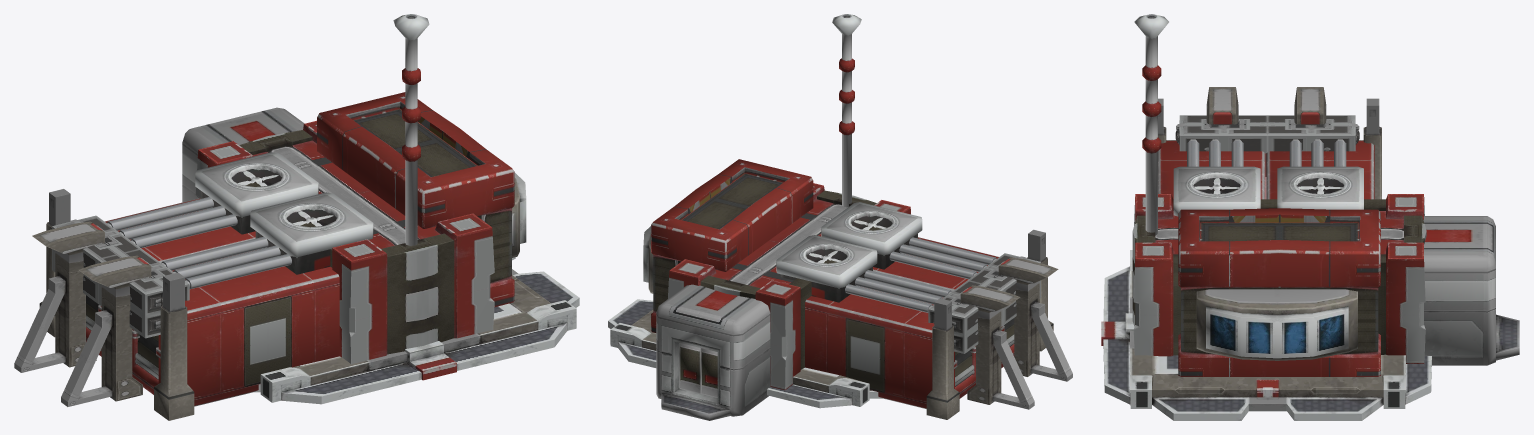
Rendered from Building - 07-BlZRWrQU.glb.
The picture shows the model from 3 angles, left to right: view 1: azimuth 30°, elevation 25°; view 2: azimuth 150°, elevation 25°; view 3: azimuth 270°, elevation 25°; orthographic projection. The views are drawn at different scales.
Parts seen in each view (by area): view 1: block5, block7 (1), block1, Pad_01, Pylon_02 (1), Pylon_02, Extras_04, Extras_04 (1), block8, Column_05 (1), Door_01_frame, Fence_05 (+5 smaller); view 2: block1, Door_01_frame, block7, block5, Pad_01, Pylon_02, Pylon_02 (1), Extras_04 (1), Extras_04, block8, Column_05, Fence_05 (1) (+7 smaller); view 3: block1, Pad_01, block5, Door_01_frame, Windows_02, block8, Extras_04, Extras_04 (1), Extras_07, block7, block7 (1), Pylon_02 (1) (+4 smaller).
Part boxes in pixels (x1=…): block5: x1=195, y1=120, x2=494, y2=364; block7 (1): x1=132, y1=261, x2=339, y2=406; block1: x1=317, y1=92, x2=514, y2=307; Pad_01: x1=254, y1=257, x2=579, y2=404; Pylon_02 (1): x1=61, y1=255, x2=151, y2=406; Pylon_02: x1=14, y1=221, x2=104, y2=372; Extras_04: x1=250, y1=192, x2=373, y2=274; Extras_04 (1): x1=195, y1=152, x2=318, y2=234; block8: x1=52, y1=215, x2=189, y2=338; Column_05 (1): x1=154, y1=272, x2=194, y2=420; Door_01_frame: x1=182, y1=107, x2=304, y2=202; Fence_05: x1=107, y1=197, x2=237, y2=247; block1: x1=651, y1=159, x2=813, y2=332; Door_01_frame: x1=656, y1=284, x2=770, y2=420; block7: x1=805, y1=294, x2=975, y2=408; block5: x1=668, y1=183, x2=910, y2=390; Pad_01: x1=608, y1=299, x2=882, y2=408; Pylon_02: x1=960, y1=285, x2=1034, y2=409; Pylon_02 (1): x1=998, y1=257, x2=1072, y2=381; Extras_04 (1): x1=776, y1=235, x2=877, y2=302; Extras_04: x1=821, y1=202, x2=922, y2=269; block8: x1=928, y1=253, x2=1040, y2=353; Column_05: x1=926, y1=298, x2=959, y2=419; Fence_05 (1): x1=889, y1=237, x2=996, y2=279; block1: x1=1178, y1=208, x2=1380, y2=376; Pad_01: x1=1101, y1=250, x2=1431, y2=420; block5: x1=1132, y1=194, x2=1426, y2=363; Door_01_frame: x1=1423, y1=216, x2=1519, y2=365; Windows_02: x1=1196, y1=289, x2=1357, y2=360; block8: x1=1175, y1=115, x2=1359, y2=176; Extras_04: x1=1173, y1=166, x2=1260, y2=216; Extras_04 (1): x1=1277, y1=166, x2=1363, y2=209; Extras_07: x1=1134, y1=14, x2=1168, y2=235; block7: x1=1266, y1=140, x2=1374, y2=199; block7 (1): x1=1158, y1=140, x2=1265, y2=199; Pylon_02 (1): x1=1206, y1=87, x2=1238, y2=124.
Bounding box in the file's own units: 5.26 × 3.53 × 4.13.
7 materials, 7 textured.
